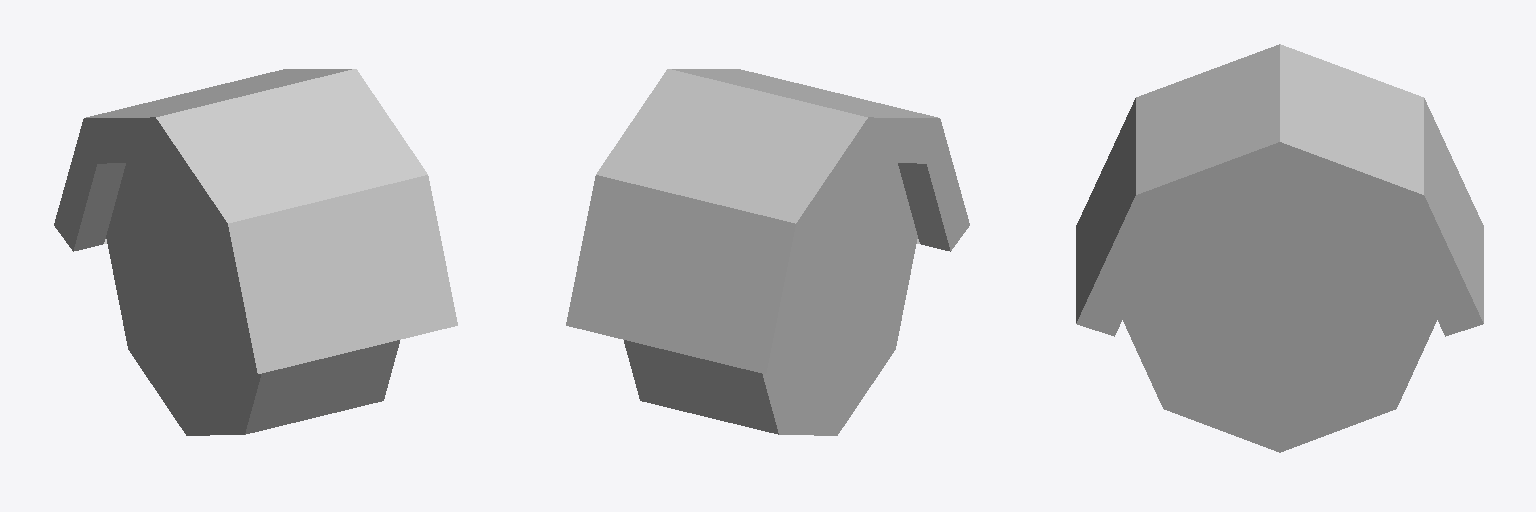
Rendered from Chair_Office_Wheel_Copy_003.obj.
The picture shows the model from 3 angles: view 1: azimuth 30°, elevation 25°; view 2: azimuth 150°, elevation 25°; view 3: azimuth 270°, elevation 25°; orthographic projection.
Parts seen in each view (by area): view 1: Chair_Office_Wheel_Copy.003; view 2: Chair_Office_Wheel_Copy.003; view 3: Chair_Office_Wheel_Copy.003.
Part boxes in pixels (x1,y1,x2,y2): Chair_Office_Wheel_Copy.003: (54,69,457,435); Chair_Office_Wheel_Copy.003: (566,69,969,435); Chair_Office_Wheel_Copy.003: (1076,44,1483,452).
Size of the model in its own units: 0.0611 by 0.095 by 0.1078.